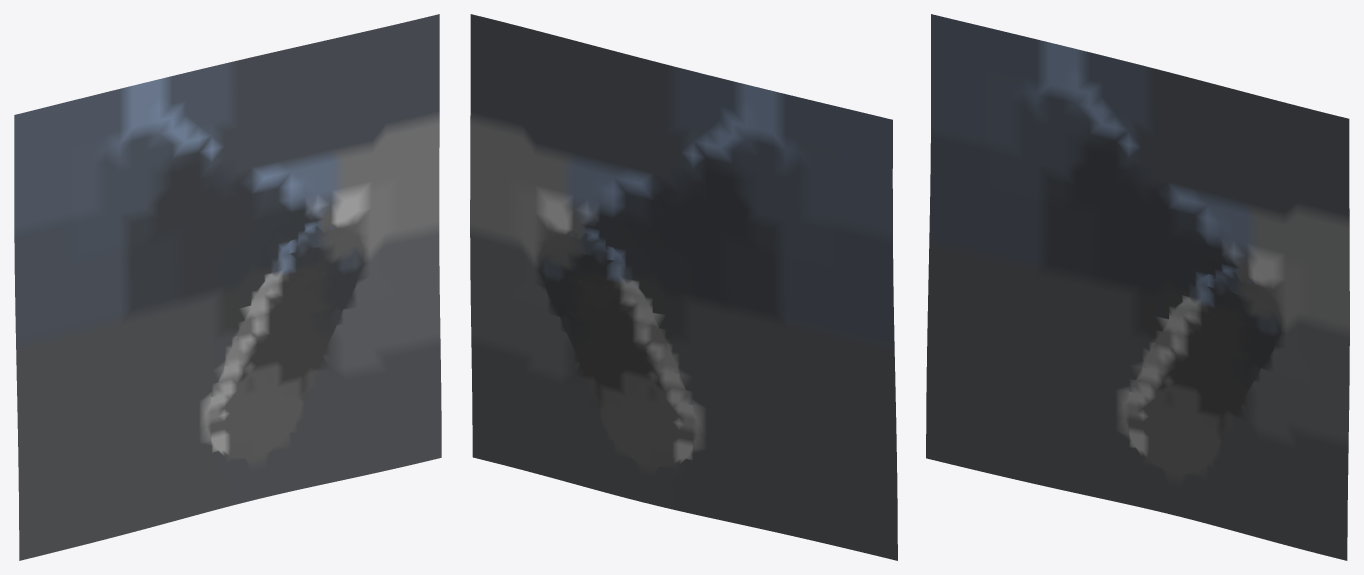
The model's file is generated_mesh.obj.
3 views of the same model, side by side, from view 1: azimuth 30°, elevation 25°; view 2: azimuth 150°, elevation 25°; view 3: azimuth 330°, elevation 25° (orthographic).
Bounding box in the file's own units: 0.2927 × 0.2927 × 0.00794.
